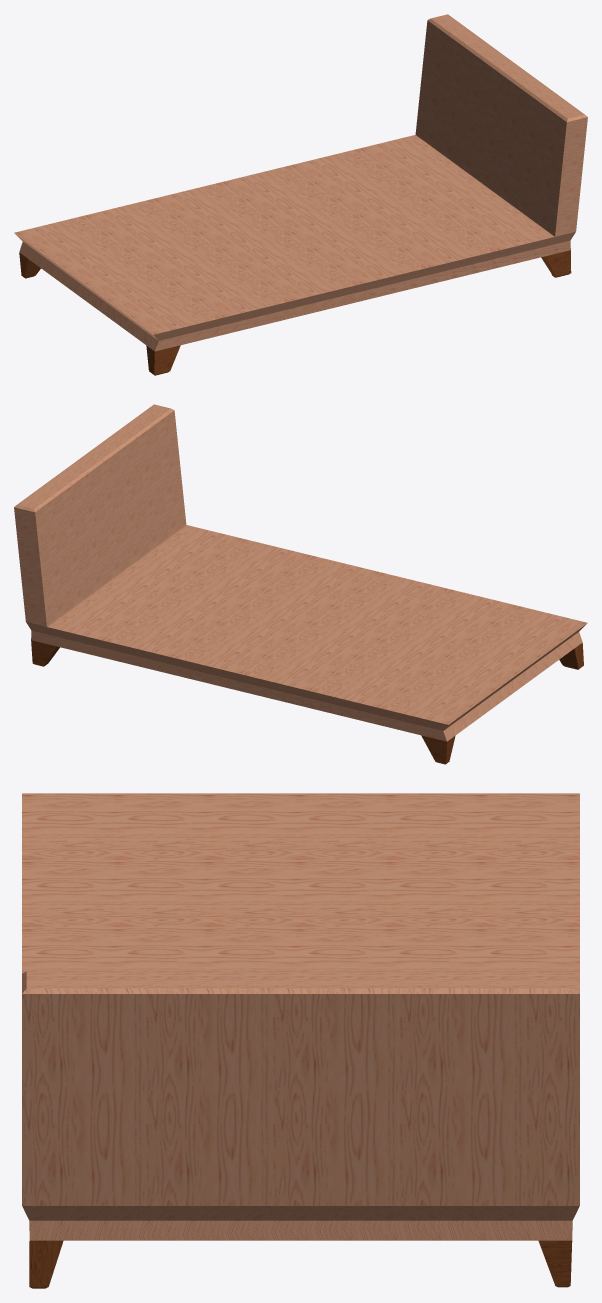
File: Cama - base.fbx
3 renders of one model, top to bottom at view 1: azimuth 30°, elevation 25°; view 2: azimuth 150°, elevation 25°; view 3: azimuth 270°, elevation 25°, orthographic. The views are drawn at different scales.
Parts seen in each view (by area): view 1: Cube.034; view 2: Cube.034; view 3: Cube.034.
Part boxes in pixels (x1,y1,x2,y2): Cube.034: (14, 14, 587, 375); Cube.034: (14, 404, 587, 764); Cube.034: (22, 793, 579, 1288).
Size of the model in its own units: 720 by 249 by 400.
